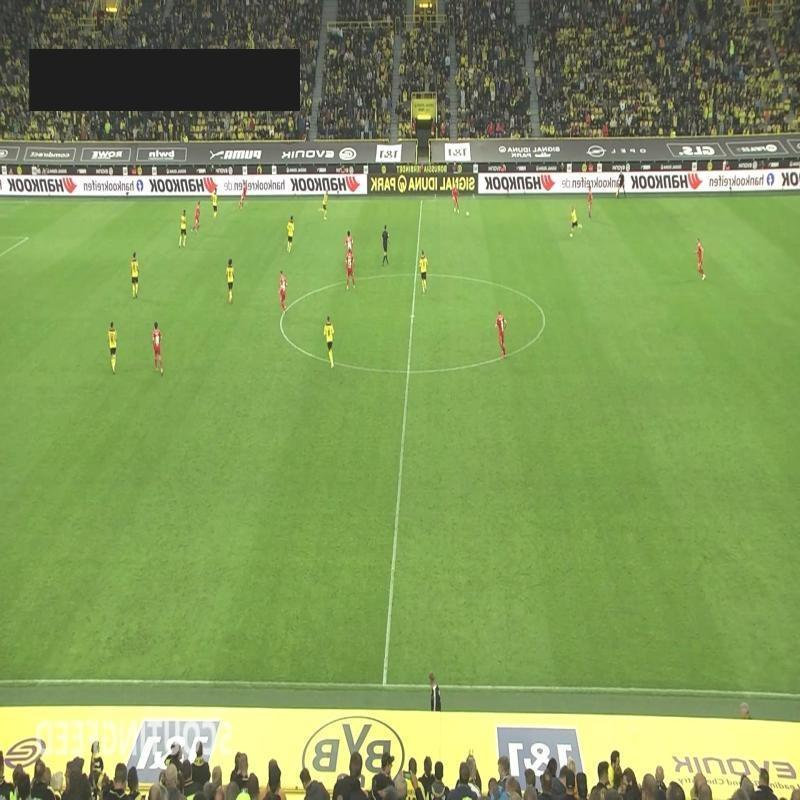13: (414, 192, 428, 206)
14: (408, 267, 423, 282)
15: (400, 363, 416, 380)
16: (374, 674, 392, 696)
9: (20, 231, 34, 244)
c: (270, 310, 291, 331), (537, 312, 551, 326)
